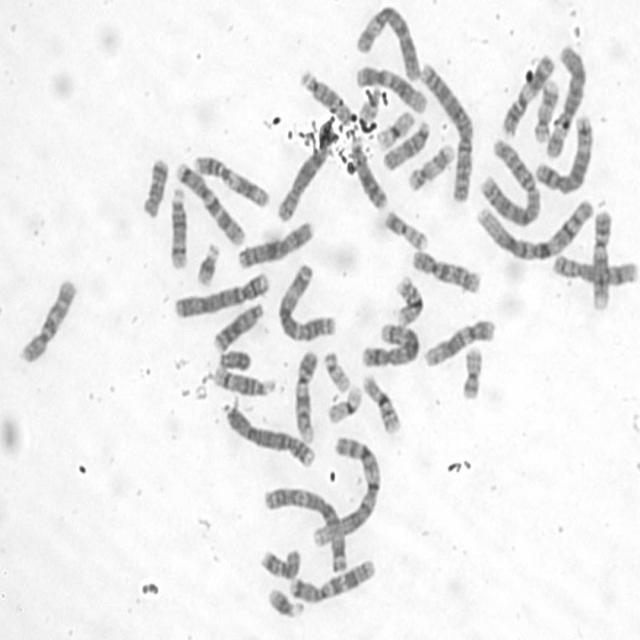A1: (308, 432, 381, 548), (473, 196, 595, 262)
A2: (417, 59, 475, 204), (476, 134, 540, 229)
A3: (261, 482, 348, 574), (274, 260, 338, 343)
B4: (220, 398, 317, 471), (171, 268, 272, 321)
B5: (533, 113, 594, 196), (360, 324, 422, 369)
C10: (17, 275, 78, 365), (409, 246, 483, 295)
C11: (498, 50, 556, 137), (190, 152, 270, 209)
C12: (421, 316, 497, 368), (353, 62, 428, 114)
C6: (352, 2, 422, 82), (543, 43, 588, 160)
C7: (172, 158, 245, 247), (286, 555, 377, 604)
C8: (274, 144, 330, 223), (549, 250, 638, 288)
C9: (588, 206, 614, 312), (291, 347, 319, 443)
D13: (348, 136, 390, 212), (210, 298, 265, 354)
D14: (212, 364, 278, 398), (166, 184, 188, 272)
D15: (297, 67, 353, 126), (378, 117, 432, 172)
E16: (360, 371, 402, 436), (392, 273, 426, 328)
E17: (405, 141, 456, 193), (531, 77, 561, 144)
E18: (139, 154, 170, 219), (257, 544, 302, 582)
F19: (373, 107, 416, 151), (324, 381, 365, 425)
F20: (381, 208, 429, 252), (459, 343, 484, 401)
G21: (265, 584, 305, 620), (193, 239, 221, 287)
G22: (321, 348, 352, 393), (356, 85, 381, 122)
X: (234, 217, 316, 271)
Y: (217, 347, 253, 372)
